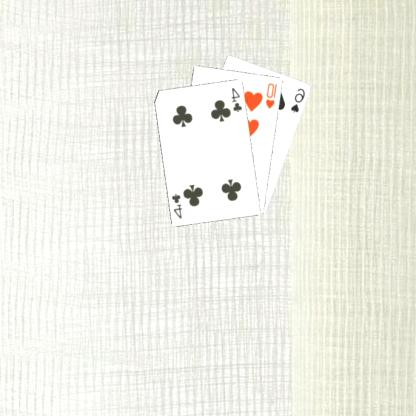10H: (265, 80, 280, 110)
4C: (230, 84, 245, 113), (170, 191, 185, 220)
6S: (290, 86, 308, 114)
